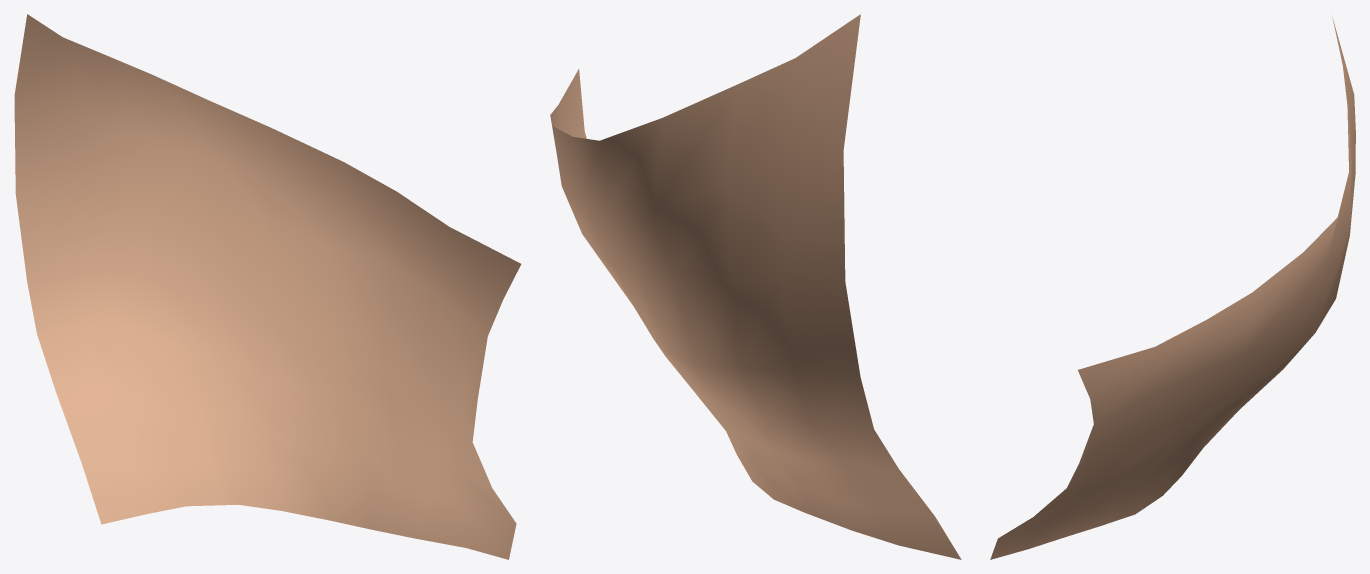
File: occipital-region-l.glb
3 renders of one model, left to right at view 1: azimuth 30°, elevation 25°; view 2: azimuth 150°, elevation 25°; view 3: azimuth 270°, elevation 25°, orthographic. The views are drawn at different scales.
Visible parts, largest first — view 1: Occipital region.l; view 2: Occipital region.l; view 3: Occipital region.l.
Part boxes in pixels (<box>): Occipital region.l: <box>14,14,521,559</box>; Occipital region.l: <box>550,14,961,559</box>; Occipital region.l: <box>990,17,1355,559</box>.
Bounding box in the file's own units: 0.0704 × 0.0911 × 0.0717.
